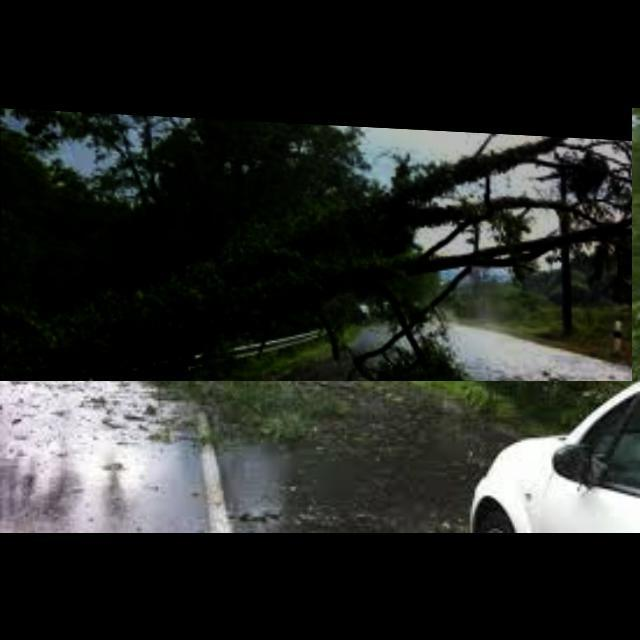fallen_tree: (0, 106, 633, 382)
